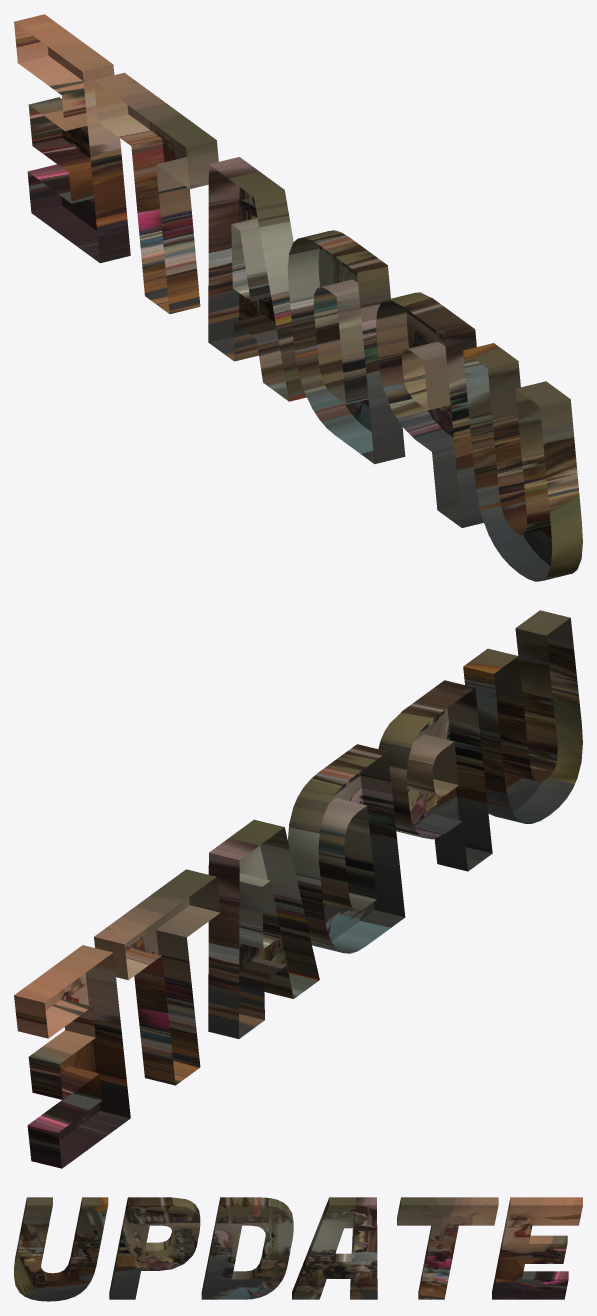
Rendered from text3dupdate_01.glb.
3 views of the same model, one above another, from view 1: azimuth 30°, elevation 25°; view 2: azimuth 150°, elevation 25°; view 3: azimuth 270°, elevation 25° (orthographic). The views are drawn at different scales.
Visible parts, largest first — view 1: update; view 2: update; view 3: update.
Boxes of the visible parts, x1,y1,x2,y2 form: update: (14, 14, 582, 581); update: (14, 610, 582, 1168); update: (14, 1197, 582, 1301).
Bounding box in the file's own units: 1 × 5.67 × 30.39.
1 material, 1 textured.
